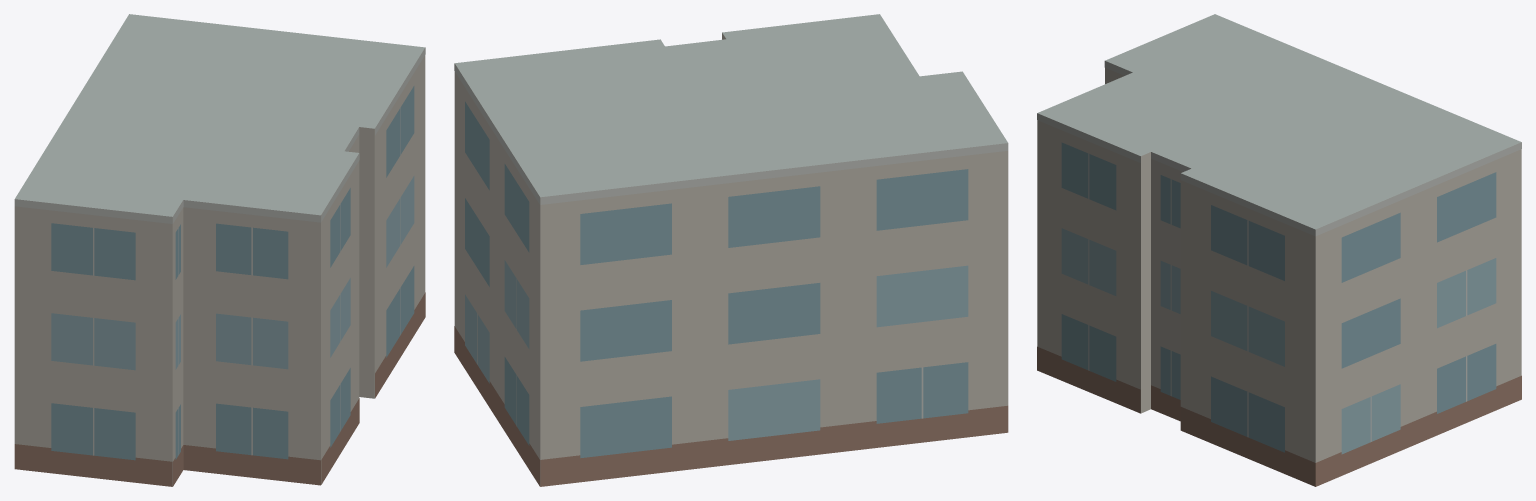
File: survey-upis-32904638.glb
The picture shows the model from 3 angles, left to right: view 1: azimuth 30°, elevation 25°; view 2: azimuth 150°, elevation 25°; view 3: azimuth 270°, elevation 25°; orthographic projection. The views are drawn at different scales.
Visible parts, largest first — view 1: survey-upis-32904638.tmp; view 2: survey-upis-32904638.tmp; view 3: survey-upis-32904638.tmp.
Boxes of the visible parts, x1,y1,x2,y2 form: survey-upis-32904638.tmp: (14, 14, 425, 486); survey-upis-32904638.tmp: (454, 14, 1008, 486); survey-upis-32904638.tmp: (1037, 14, 1521, 486).
Bounding box in the file's own units: 16.45 × 9.15 × 15.63.
